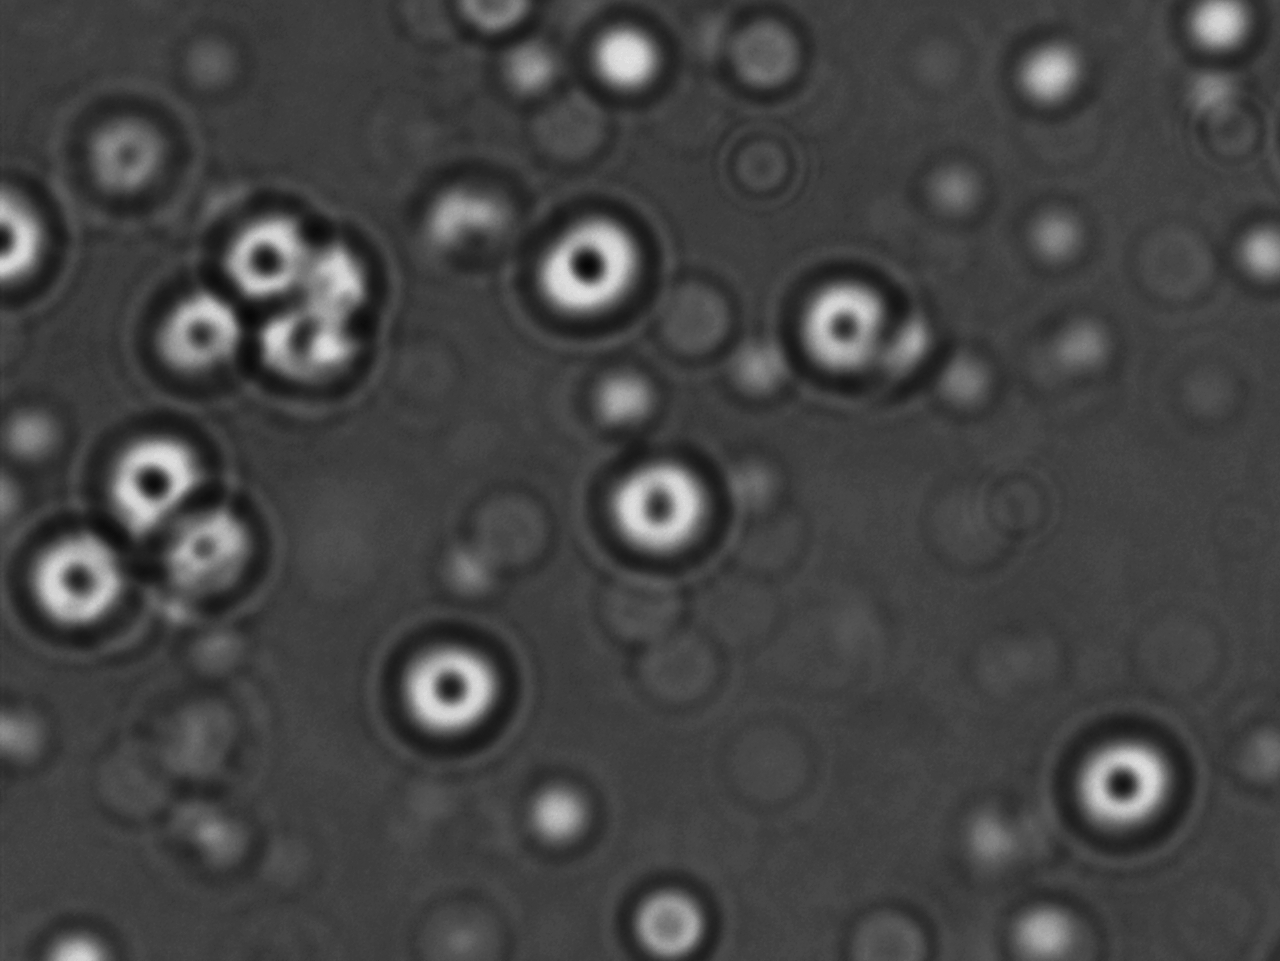depth:24: (519, 200, 659, 342)
depth:32: (1049, 709, 1207, 861), (579, 426, 727, 573), (375, 608, 527, 748), (776, 255, 921, 399), (79, 407, 223, 543), (200, 186, 328, 318), (132, 266, 257, 402), (8, 523, 126, 645)
